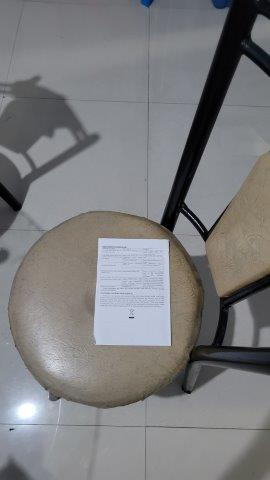kertas: (93, 236, 171, 349)
